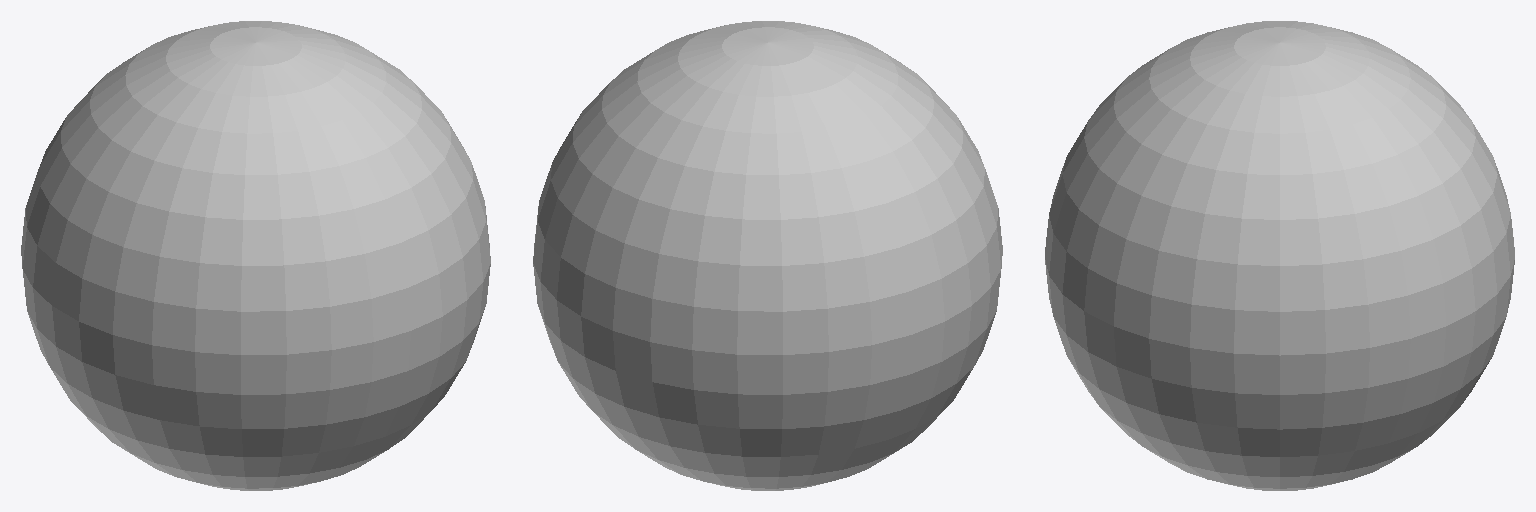
File: pellet.obj
3 views of the same model, side by side, from view 1: azimuth 30°, elevation 25°; view 2: azimuth 150°, elevation 25°; view 3: azimuth 270°, elevation 25° (orthographic).
Visible parts, largest first — view 1: Sphere; view 2: Sphere; view 3: Sphere.
Part boxes in pixels (x1,y1,x2,y2): Sphere: (21,21,490,490); Sphere: (533,21,1002,490); Sphere: (1045,21,1514,490).
Size of the model in its own units: 1.6 by 1.6 by 1.6.